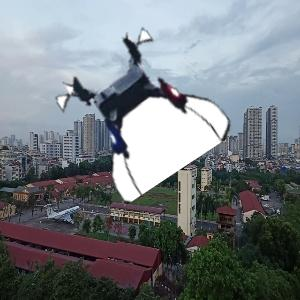drone: (64, 36, 213, 185)
